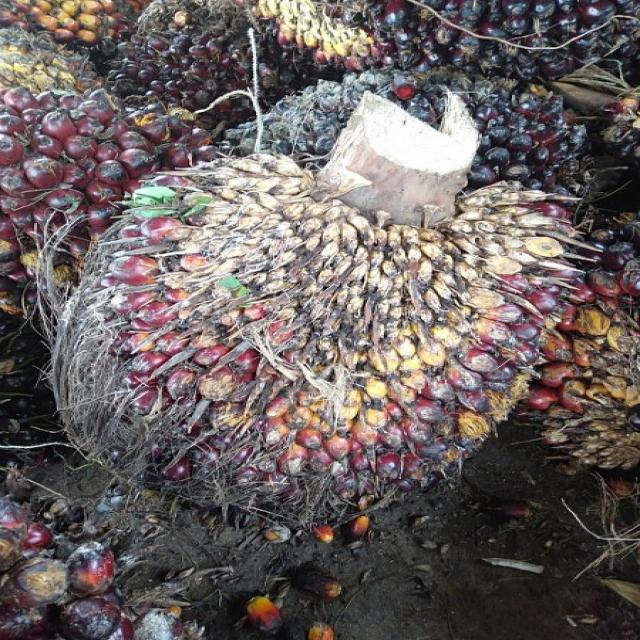fraksi 1: (71, 132, 577, 531)
